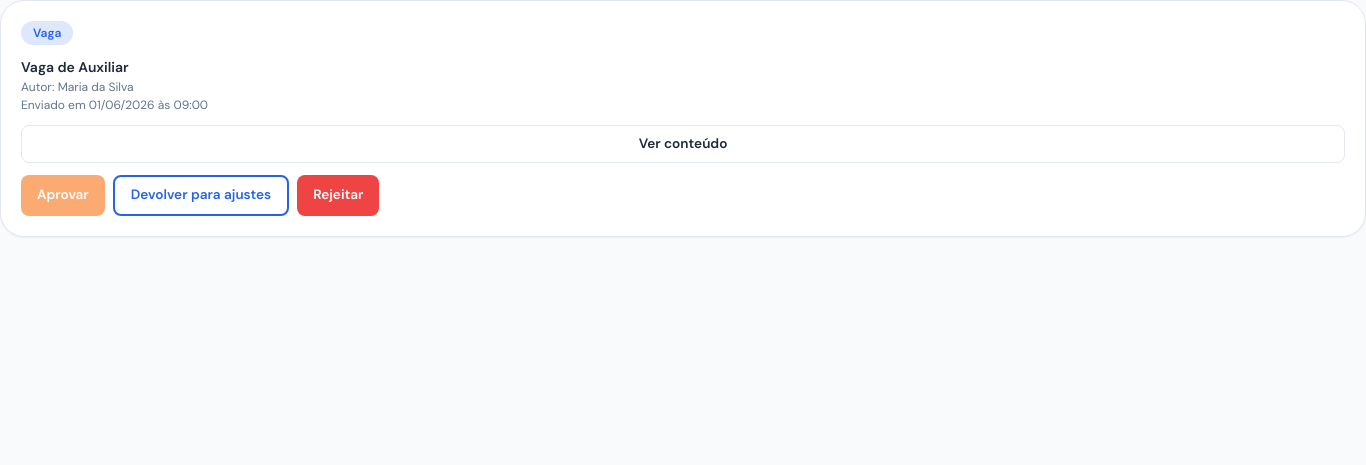
ModerationQueue › erro sem mensagem: usa o fallback genérico (conteúdo já aberto)
Click the button "Ver conteúdo": (683, 144) [21, 125, 1345, 163]
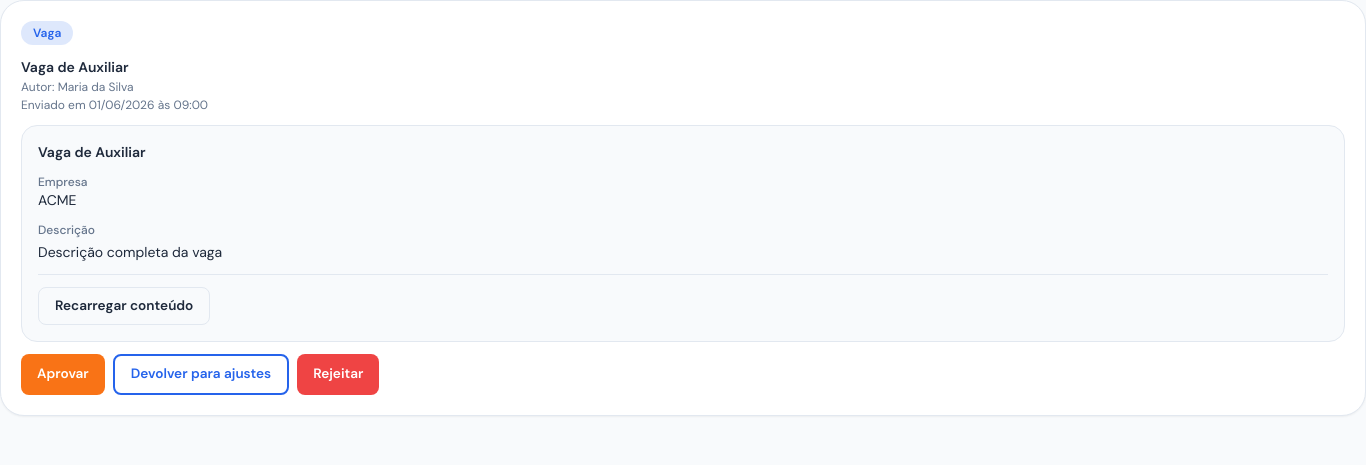
Check: the text "ACME" is shown, box [38, 191, 76, 209]
Click the button "Aprovar": (63, 375) [21, 354, 105, 395]
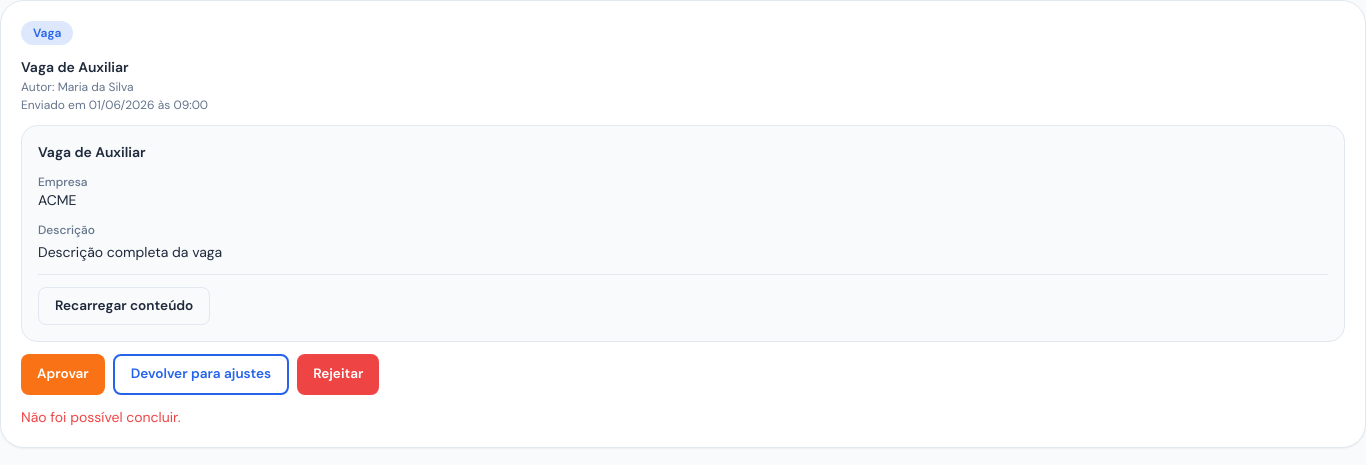
Check: the message shows "Não foi possível concluir", box [21, 408, 180, 426]
